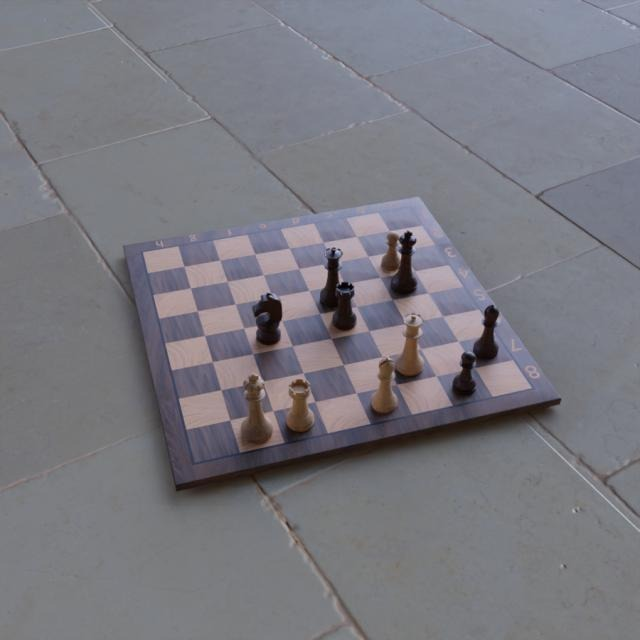black-bishop: (473, 302, 503, 362)
black-king: (389, 229, 419, 294)
black-knight: (252, 291, 284, 347)
black-pawn: (451, 350, 477, 397)
black-queen: (319, 246, 345, 310)
black-rook: (330, 280, 358, 332)
white-bishop: (369, 354, 401, 415)
white-king: (241, 372, 275, 444)
white-pawn: (380, 230, 402, 271)
white-queen: (395, 310, 427, 378)
white-rook: (284, 378, 317, 434)
